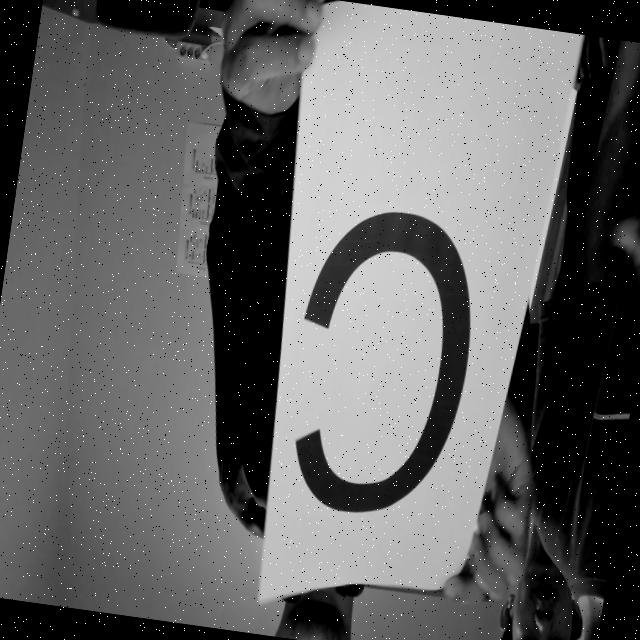c: (272, 165, 502, 538)
